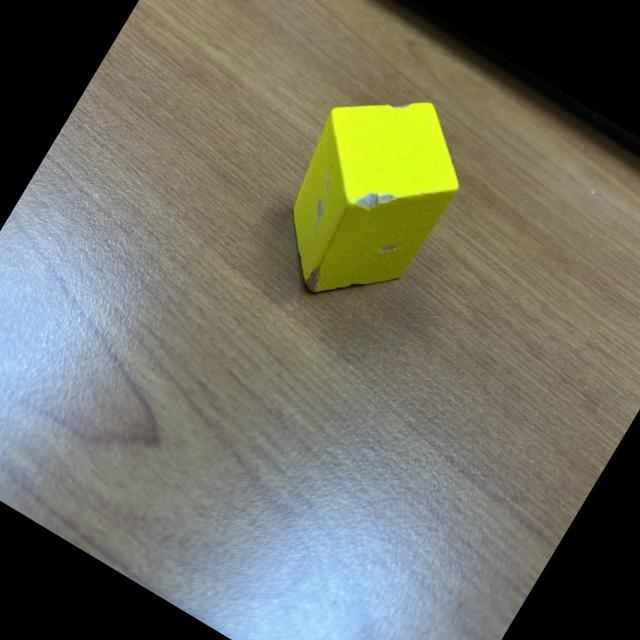broken: (244, 60, 490, 332)
